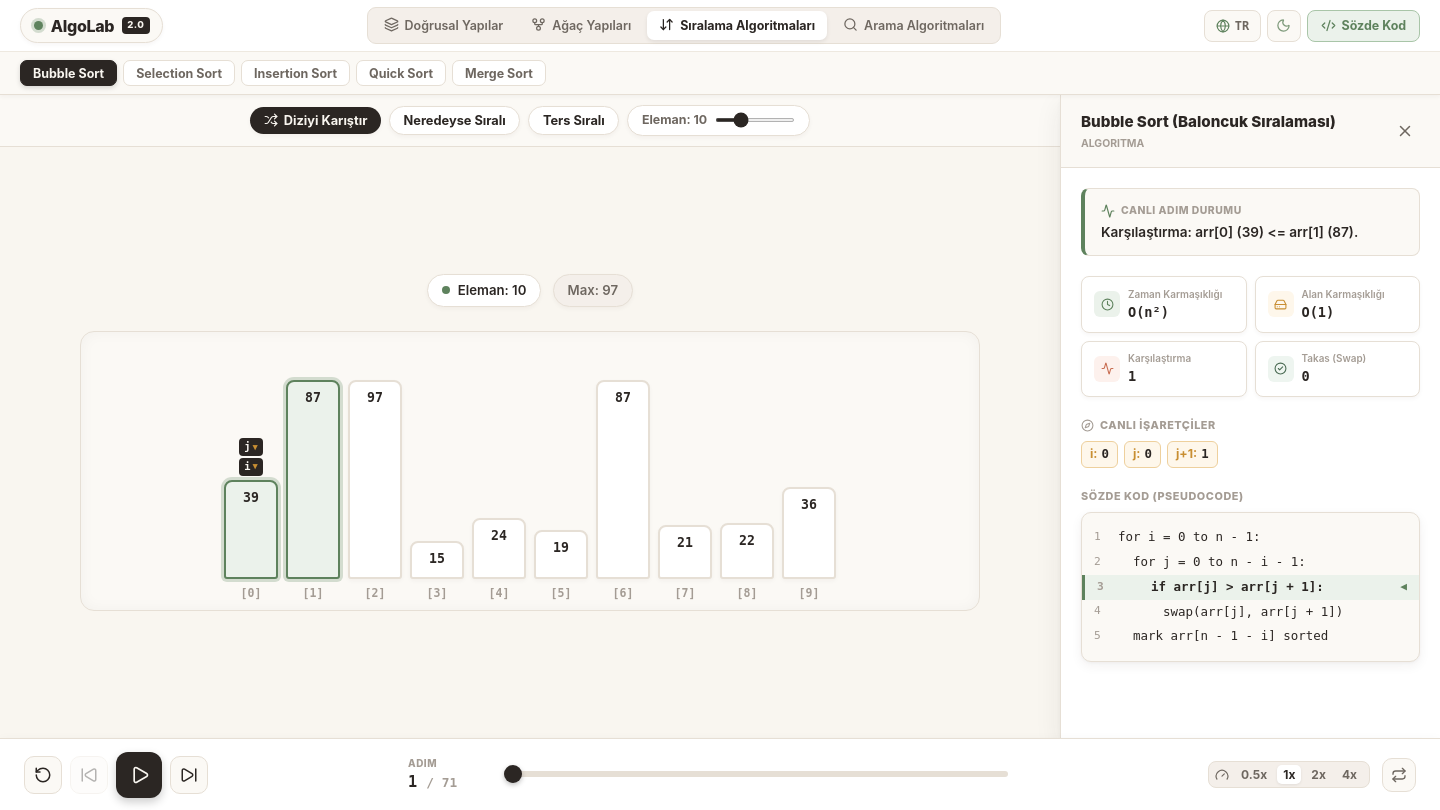
Algorithm & Structure Transition Integration Tests › Sorting -> Stack geçişinde Stack görselleştiricisi render edilmeli
Click the button "Doğrusal Yapılar" at coordinates (443, 26), box 372,11 -> 515,40
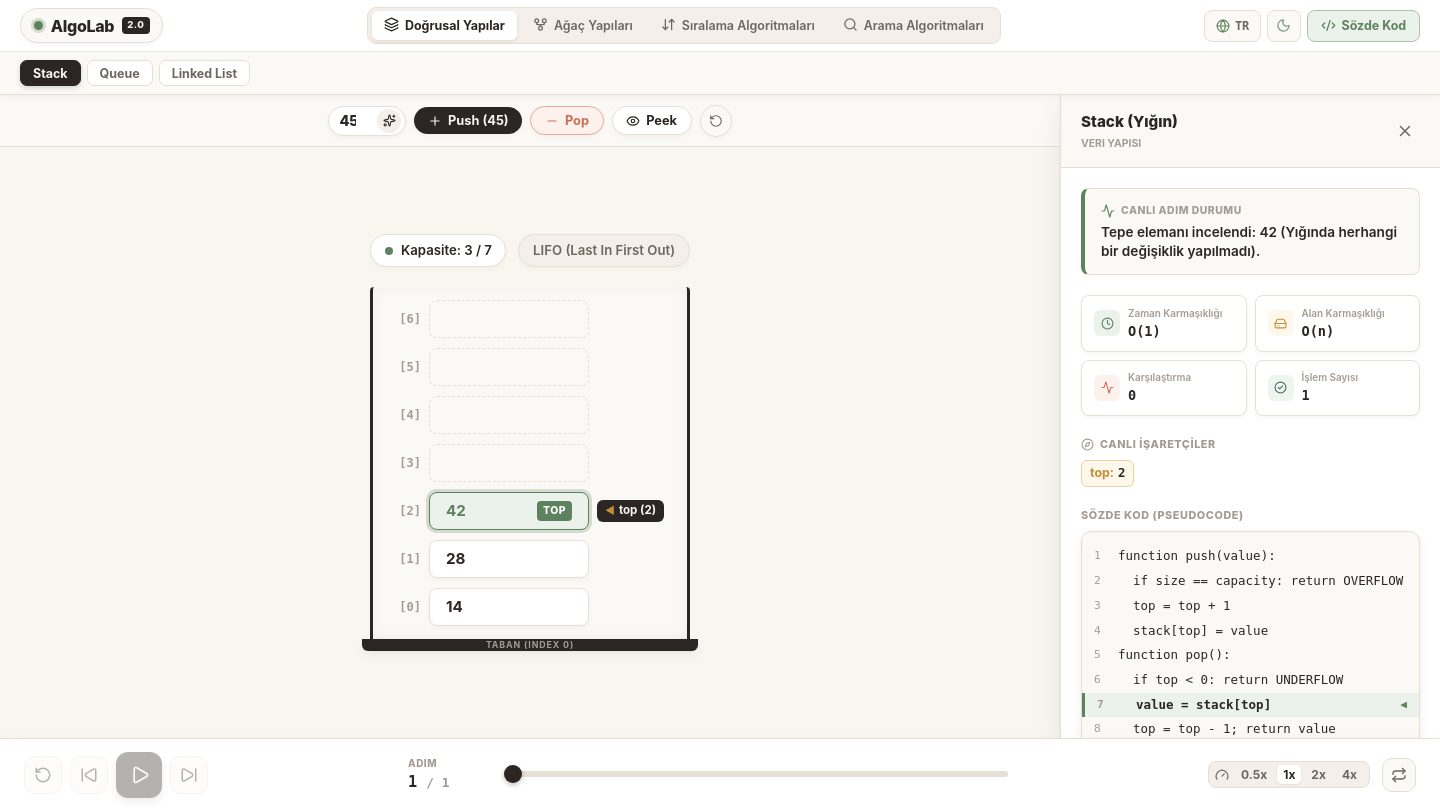
Check: the text "LIFO (Last In First Out)" is shown, box 533,241 -> 675,260
Check: the text "Push (45)" is shown, box 448,113 -> 509,128
